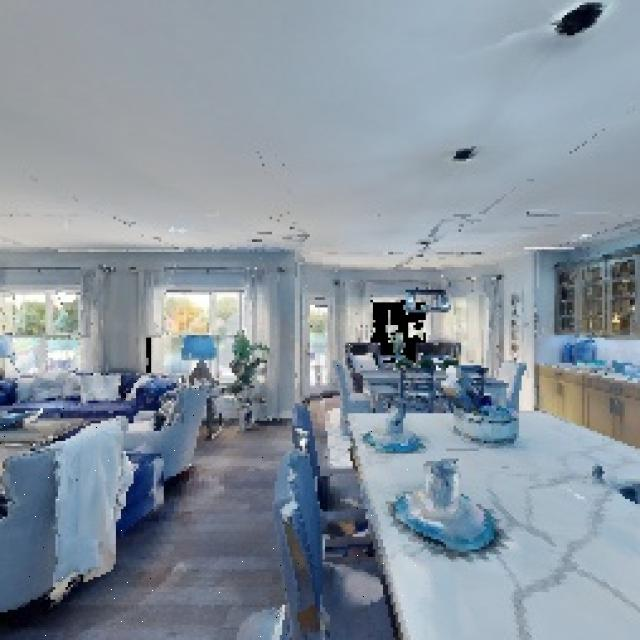chair: (219, 466, 418, 640), (254, 418, 398, 565), (328, 344, 378, 434)
sofa: (0, 395, 153, 640), (110, 380, 238, 506)
